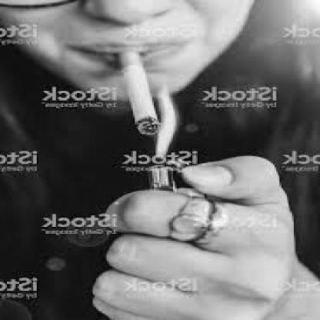Fire: (145, 83, 187, 174)
